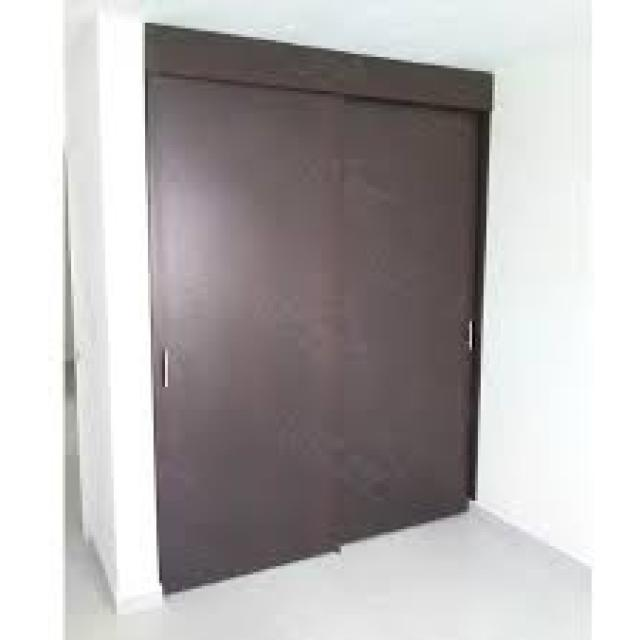door: (144, 27, 494, 596)
